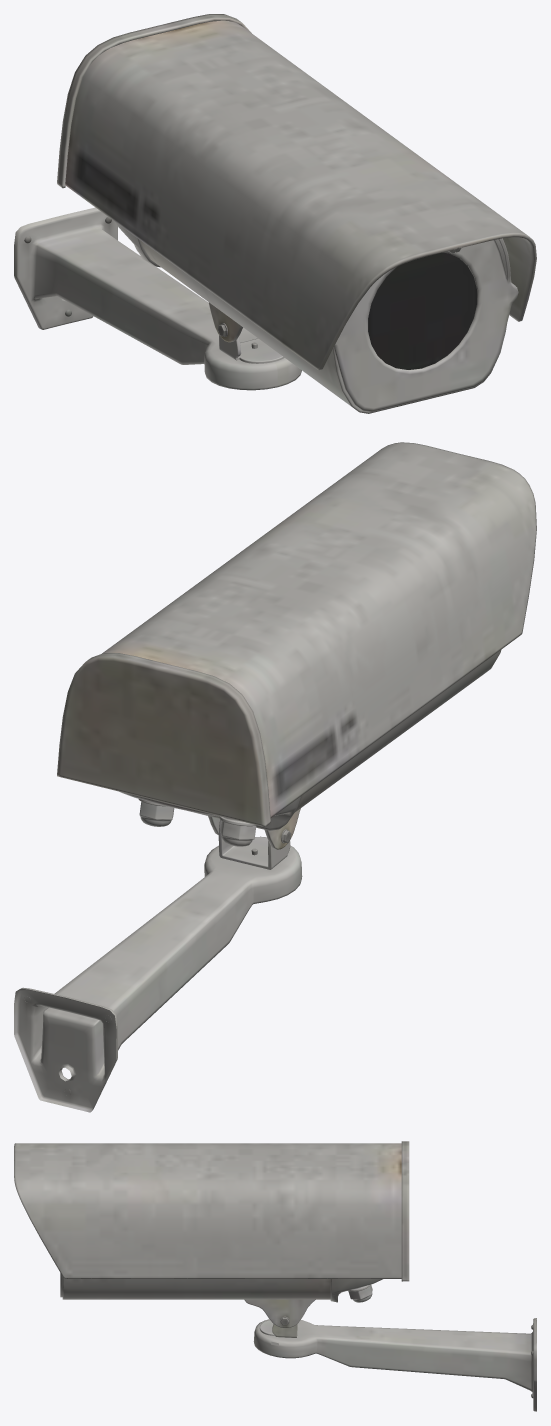
File: security_camera.glb
The picture shows the model from 3 angles, top to bottom: view 1: azimuth 30°, elevation 25°; view 2: azimuth 150°, elevation 25°; view 3: azimuth 270°, elevation 25°; orthographic projection. The views are drawn at different scales.
Parts seen in each view (by area): view 1: security_camera_01; view 2: security_camera_01; view 3: security_camera_01.
Part boxes in pixels (x1,y1,x2,y2): security_camera_01: (14,14,536,413); security_camera_01: (14,442,536,1112); security_camera_01: (14,1141,536,1411).
Bounding box in the file's own units: 0.1696 × 0.286 × 0.5537.
2 materials, 2 textured.
